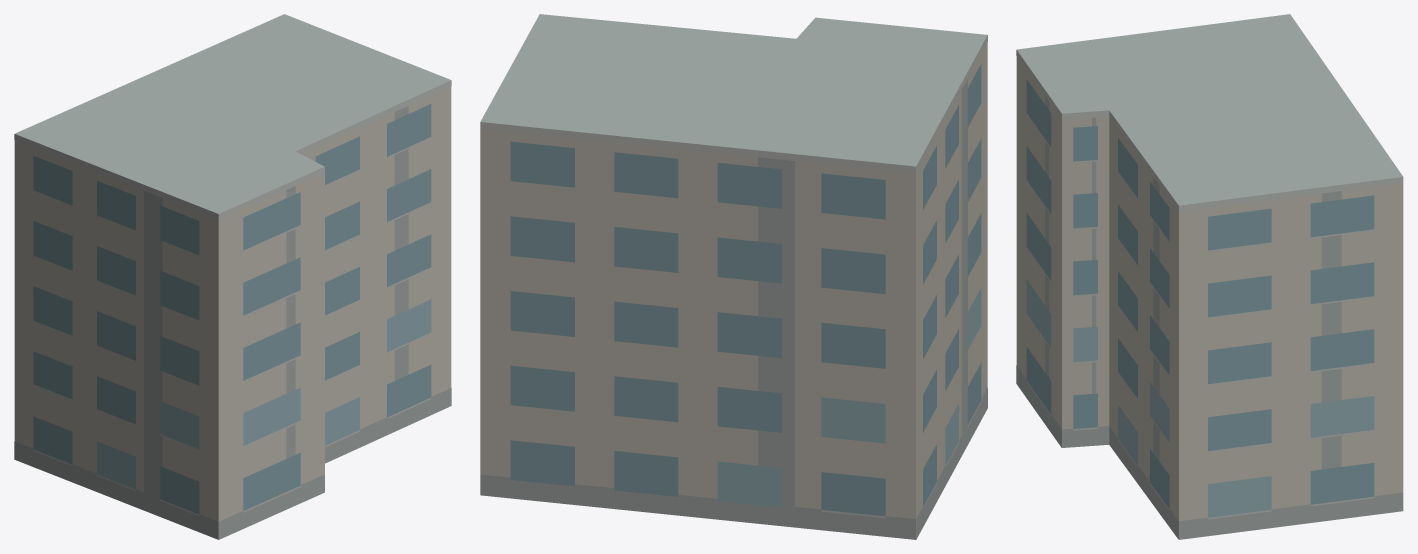
File: survey-upis-32541339.glb
3 views of the same model, side by side, from view 1: azimuth 30°, elevation 25°; view 2: azimuth 150°, elevation 25°; view 3: azimuth 270°, elevation 25° (orthographic). The views are drawn at different scales.
Parts seen in each view (by area): view 1: survey-upis-32541339.tmp; view 2: survey-upis-32541339.tmp; view 3: survey-upis-32541339.tmp.
Part boxes in pixels (x1=…): survey-upis-32541339.tmp: x1=14, y1=14, x2=451, y2=539; survey-upis-32541339.tmp: x1=480, y1=14, x2=987, y2=539; survey-upis-32541339.tmp: x1=1016, y1=14, x2=1403, y2=539.
Size of the model in its own units: 15.99 by 13 by 13.65.
